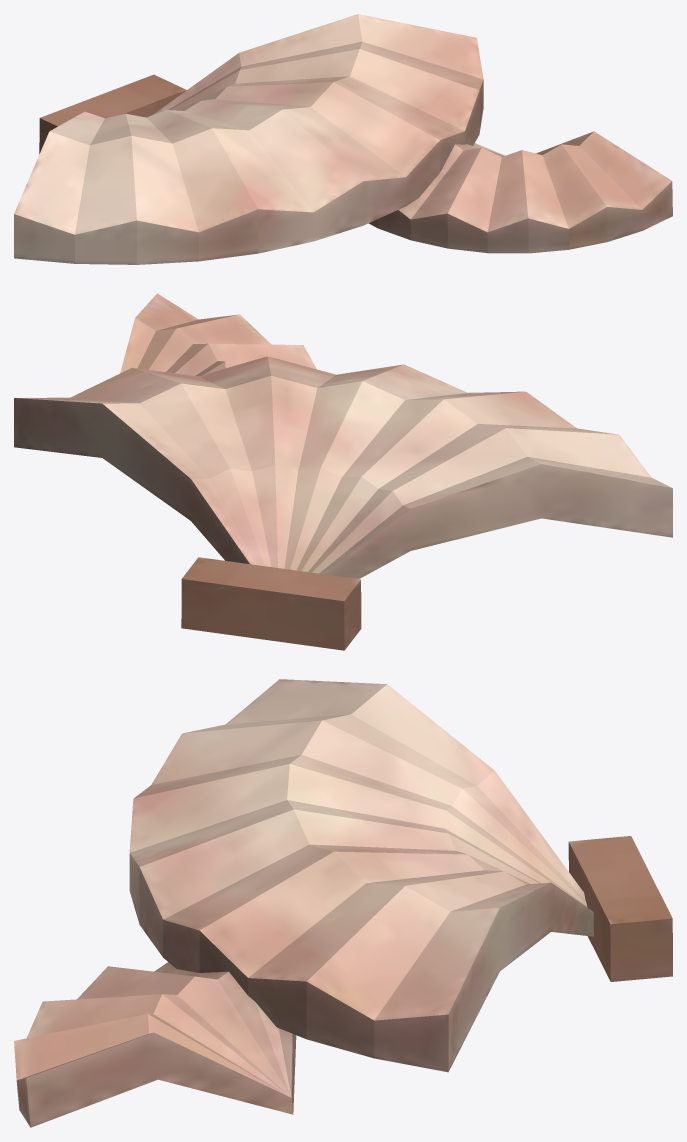
File: coast_shell.glb
3 views of the same model, one above another, from view 1: azimuth 30°, elevation 25°; view 2: azimuth 150°, elevation 25°; view 3: azimuth 270°, elevation 25° (orthographic). The views are drawn at different scales.
Parts seen in each view (by area): view 1: Static_Mesh; view 2: Static_Mesh; view 3: Static_Mesh.
Part boxes in pixels (x1,y1,x2,y2): Static_Mesh: (14,14,672,264); Static_Mesh: (14,293,672,650); Static_Mesh: (14,679,672,1127).
Bounding box in the file's own units: 0.4653 × 0.0946 × 0.3619.
Materials: 1 (1 with a texture image).
